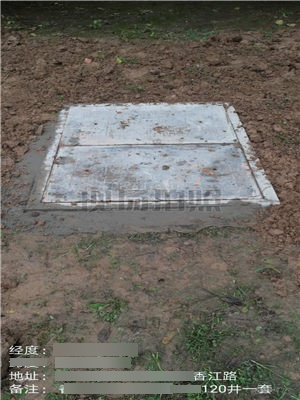well: (27, 100, 276, 208)
